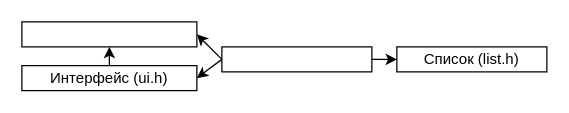
The diagram is 569 pixels wide and 113 high, and some of its shapes have lost their labels. Here are the shapes that lost their labels. From the top down, the box of each, then its label:
(21, 21, 197, 47): Ввод (extended_conio.h)
(221, 46, 372, 72): Программа (main.c)
